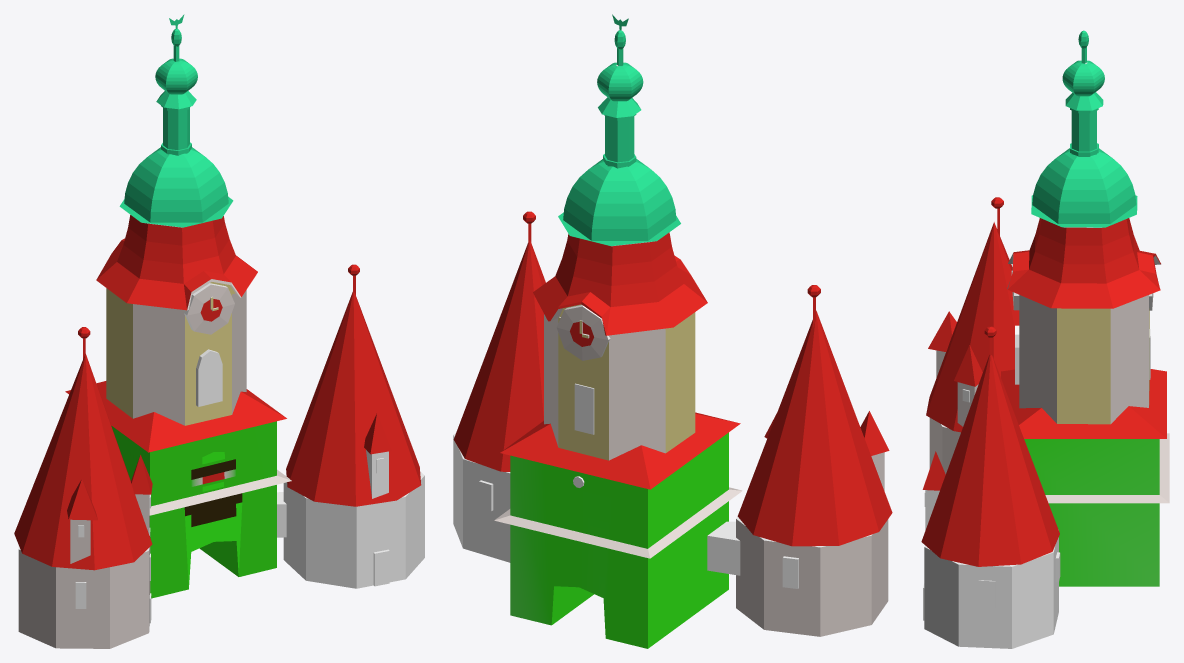
The model's file is building_final 1.fbx.
3 renders of one model, left to right at view 1: azimuth 30°, elevation 25°; view 2: azimuth 150°, elevation 25°; view 3: azimuth 270°, elevation 25°, orthographic. The views are drawn at different scales.
Visible parts, largest first — view 1: Cylinder.001; view 2: Cylinder.001; view 3: Cylinder.001.
Part boxes in pixels (x1,y1,x2,y2): Cylinder.001: (14, 14, 424, 648); Cylinder.001: (453, 14, 892, 648); Cylinder.001: (921, 30, 1169, 648).
Bounding box in the file's own units: 1211 × 1619 × 676.
